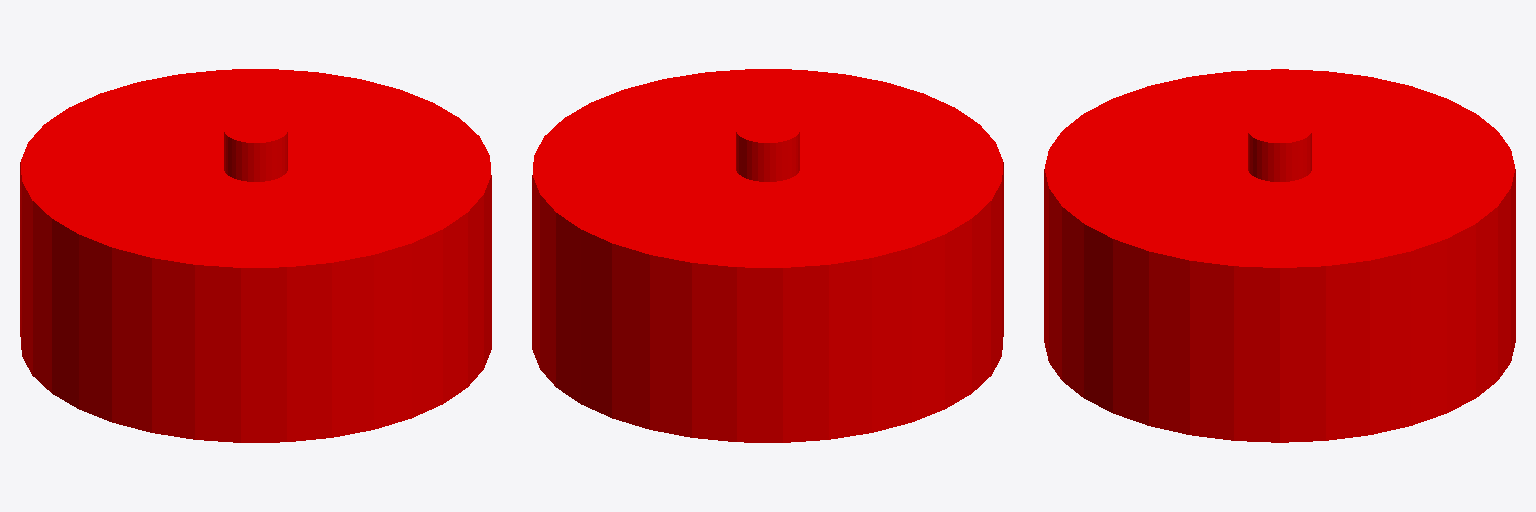
The robot description file, URDF, robot "odm_robot":
<?xml version="1.0"?>
<robot name="odm_robot" xmlns:xacro="http://ros.org/wiki/xacro">
  <material name="red">
    <color rgba="1.0 0 0 2.5"/>
  </material>

  <link name="base_link"/>

  <joint name="body_joint" type="fixed">
    <parent link="base_link"/>
    <child  link="body_link"/>
    <origin xyz="0 0 0.09" rpy="0 0 0"/>
  </joint>
  <link name="body_link">
   <inertial>
     <origin xyz="0 0 0.5" rpy="0 0 0"/>
     <mass value="1"/>
     <inertia ixx="0.1"  ixy="0"  ixz="0" iyy="0.1" iyz="0" izz="0.1" />
   </inertial>
   <visual>
     <origin xyz="0 0 0" rpy="0 0 0" />
     <geometry>
       <cylinder radius="0.22" length="0.18"/>
     </geometry>
     <material name="red" />
   </visual>
   <collision>
     <origin xyz="0 0 0" rpy="0 0 0"/>
     <geometry>
       <cylinder radius="0.22" length="0.18"/>
     </geometry>
   </collision>
  </link>
  <gazebo reference="body_link">
    <material>Gazebo/Red</material>
    <mu1 value="0.1" />
    <mu2 value="0.1" />
  </gazebo>

  <joint name="head_joint" type="fixed">
    <parent link="base_link"/>
    <child  link="head_link"/>
    <origin xyz="0 0 0.20" rpy="0 0 0"/>
  </joint>
  <link name="head_link">
   <visual>
     <origin xyz="0 0 0" rpy="0 0 0" />
     <geometry>
       <cylinder radius="0.03" length="0.04"/>
     </geometry>
     <material name="red" />
   </visual>
  </link>
  <gazebo reference="head_link">
    <material>Gazebo/Red</material>
  </gazebo>
</robot>

--- Render facts (derived) ---
3 views of the same robot in one strip: view 1: azimuth 30°, elevation 25°; view 2: azimuth 150°, elevation 25°; view 3: azimuth 270°, elevation 25° (orthographic).
Robot: odm_robot — 3 links, 2 joints (2 fixed); root link base_link; default pose: all joints at 0.
Visible links, largest first — view 1: body_link, head_link; view 2: body_link, head_link; view 3: body_link, head_link.
Boxes of the visible links, x1,y1,x2,y2 form: body_link: (20, 69, 491, 442); head_link: (224, 116, 287, 181); body_link: (532, 69, 1003, 442); head_link: (736, 116, 799, 181); body_link: (1044, 69, 1515, 442); head_link: (1248, 116, 1311, 181).
Bounding box of the posed robot: 0.44 × 0.44 × 0.22 m (x, y, z).
Geometry: primitives only (box / cylinder / sphere), no mesh files.